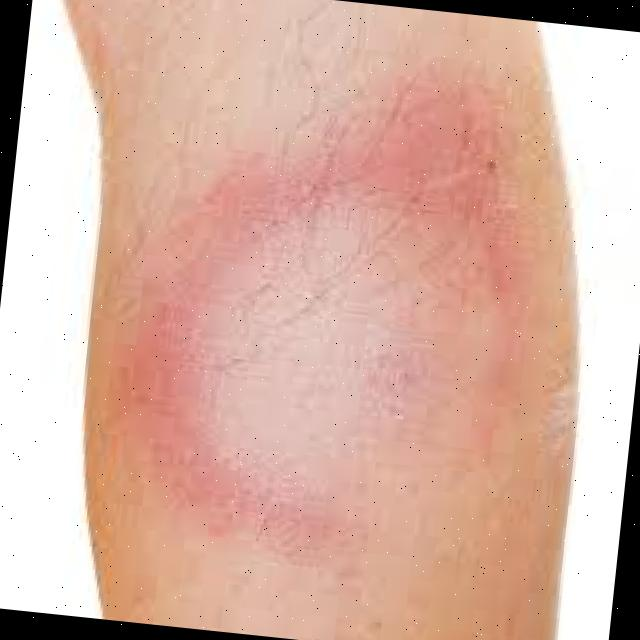kene: (53, 19, 579, 615)
